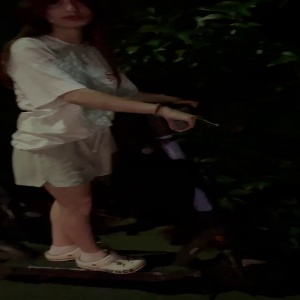human on a scooter: (1, 1, 293, 296)
